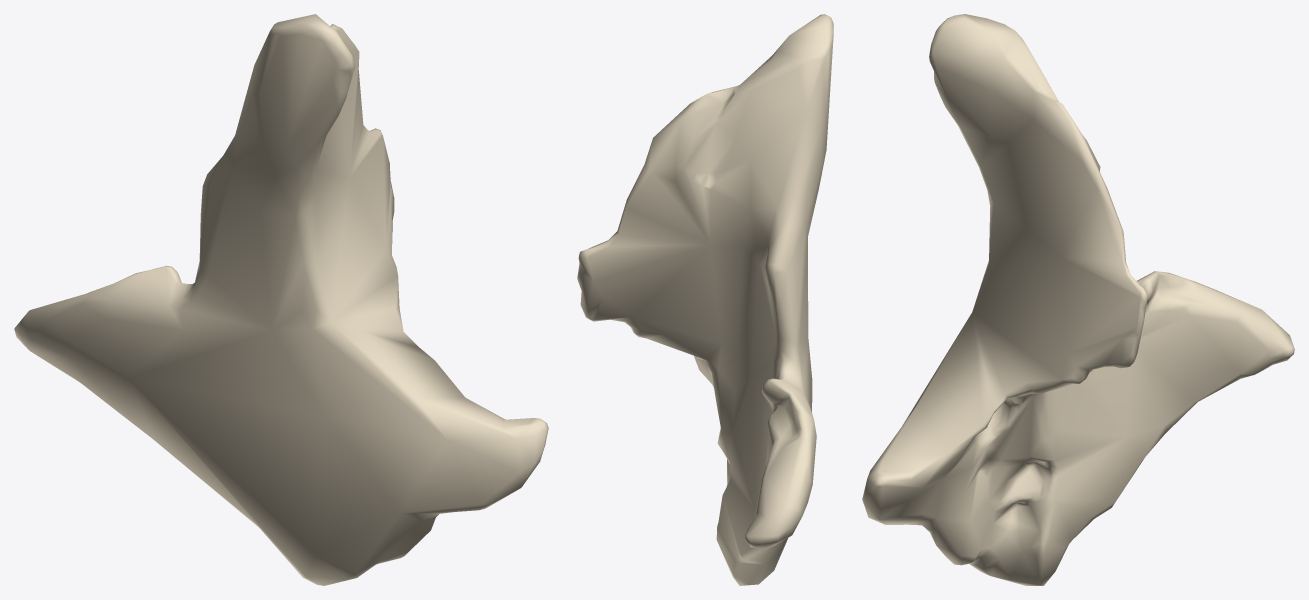
The model's file is zygomatic-bone-r.glb.
3 views of the same model, side by side, from view 1: azimuth 30°, elevation 25°; view 2: azimuth 150°, elevation 25°; view 3: azimuth 270°, elevation 25° (orthographic). The views are drawn at different scales.
Parts seen in each view (by area): view 1: Zygomatic bone.r; view 2: Zygomatic bone.r; view 3: Zygomatic bone.r.
Part boxes in pixels (x1,y1,x2,y2): Zygomatic bone.r: [14, 14, 548, 585]; Zygomatic bone.r: [577, 14, 833, 585]; Zygomatic bone.r: [862, 14, 1294, 585].
Size of the model in its own units: 0.0307 by 0.0547 by 0.039.
